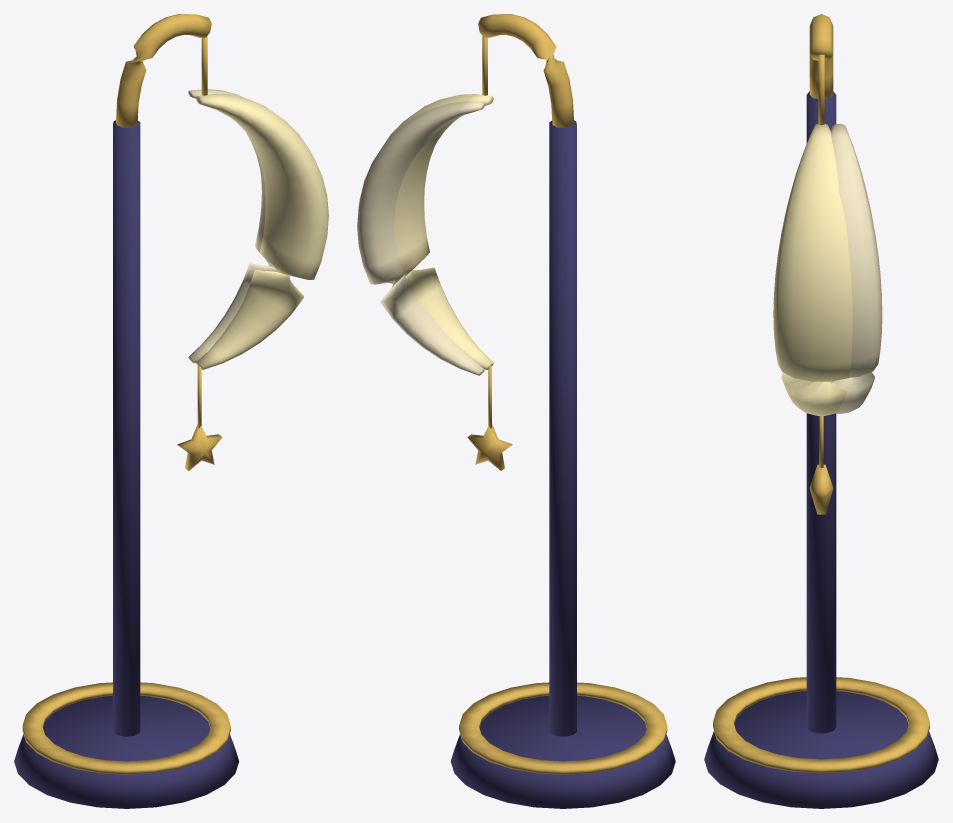
Rendered from moon-lamp.glb.
The picture shows the model from 3 angles, left to right: view 1: azimuth 30°, elevation 25°; view 2: azimuth 150°, elevation 25°; view 3: azimuth 270°, elevation 25°; orthographic projection. The views are drawn at different scales.
Visible parts, largest first — view 1: lamp; view 2: lamp; view 3: lamp.
Boxes of the visible parts, left/top/right/bottom form: lamp: left=14, top=14, right=328, bottom=808; lamp: left=357, top=14, right=675, bottom=808; lamp: left=704, top=14, right=938, bottom=808.
Size of the model in its own units: 0.594 by 1.44 by 0.4.
